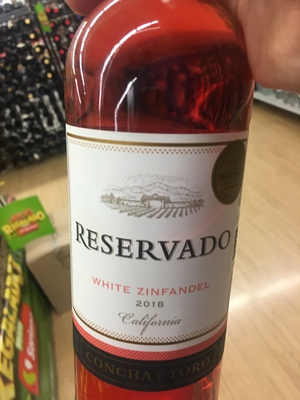reservado white zinfandel: (64, 6, 248, 400)
